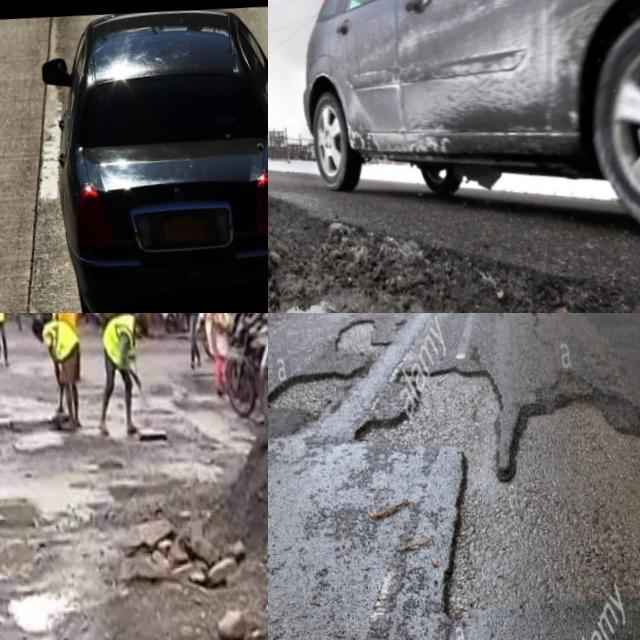Potholes: (366, 379, 640, 640), (498, 331, 640, 640), (318, 319, 523, 524), (268, 218, 640, 313), (79, 448, 236, 620), (268, 316, 361, 492), (0, 427, 61, 612), (292, 313, 383, 399)
